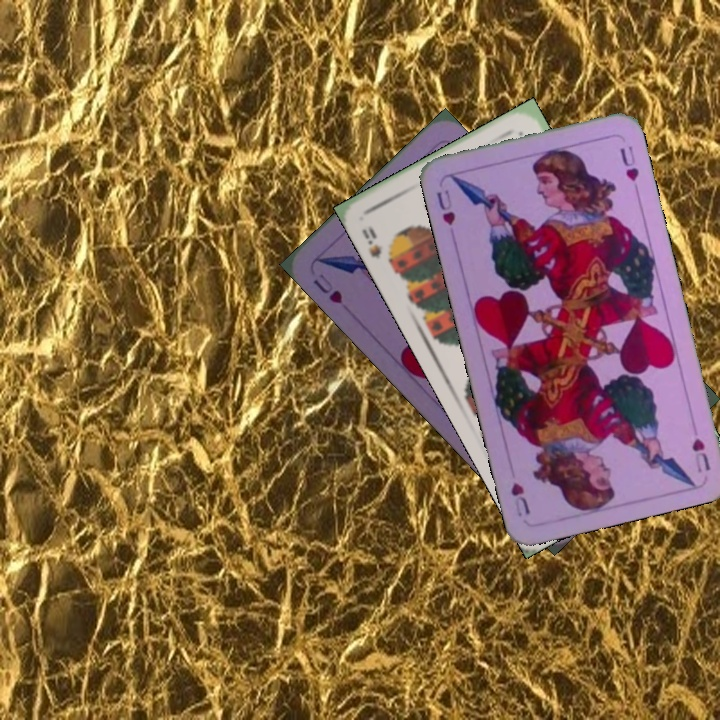HU: (309, 269, 345, 307), (432, 186, 458, 228), (688, 433, 713, 475)
S9: (358, 222, 399, 271)
